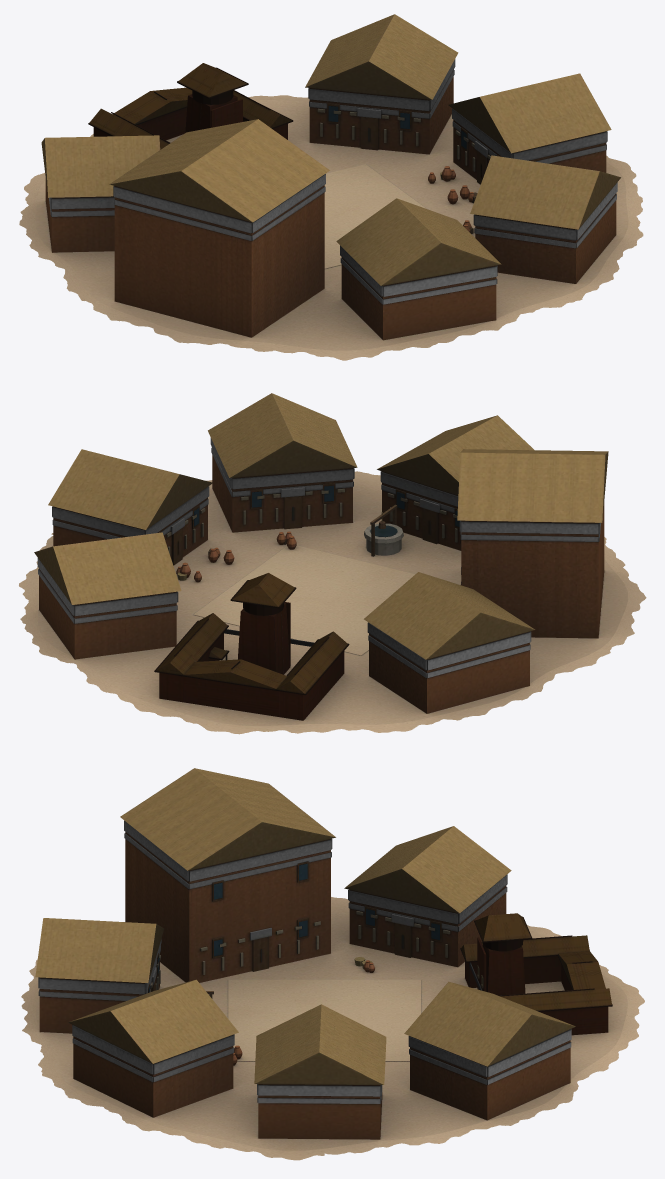
Rendered from kingdoms-town-small-b-westafrica.glb.
3 renders of one model, top to bottom at view 1: azimuth 30°, elevation 25°; view 2: azimuth 150°, elevation 25°; view 3: azimuth 270°, elevation 25°, orthographic.
Parts seen in each view (by area): view 1: LOD0; view 2: LOD0; view 3: LOD0.
Part boxes in pixels (left/top/right/bottom): LOD0: left=19, top=14, right=643, bottom=360; LOD0: left=19, top=393, right=646, bottom=734; LOD0: left=21, top=768, right=644, bottom=1160.
Size of what is drawn, in the model's own units: 4.03 by 1.05 by 3.97.
Materials: 3 (3 with a texture image).
